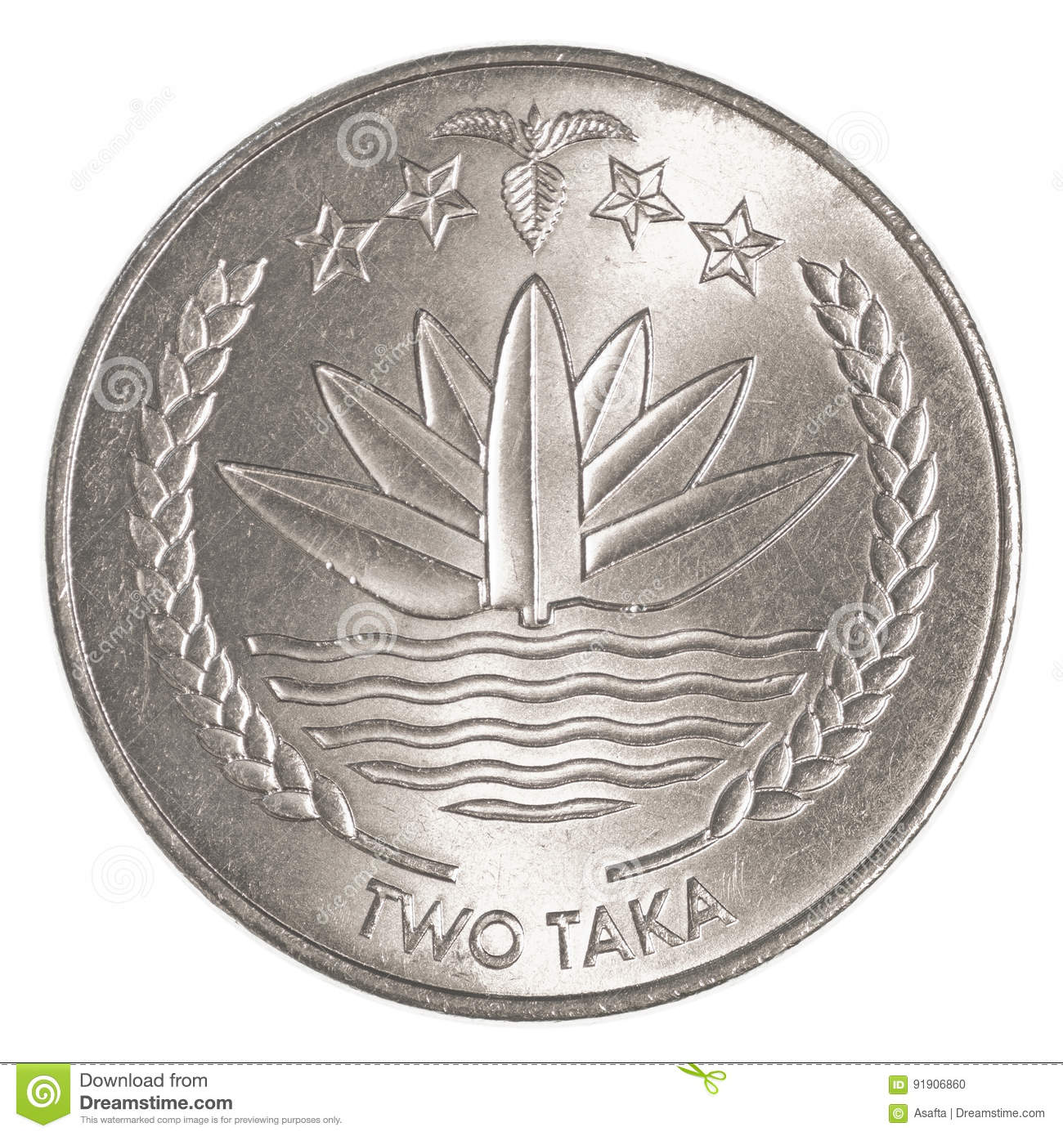5 taka coin: (44, 41, 1020, 1024)
